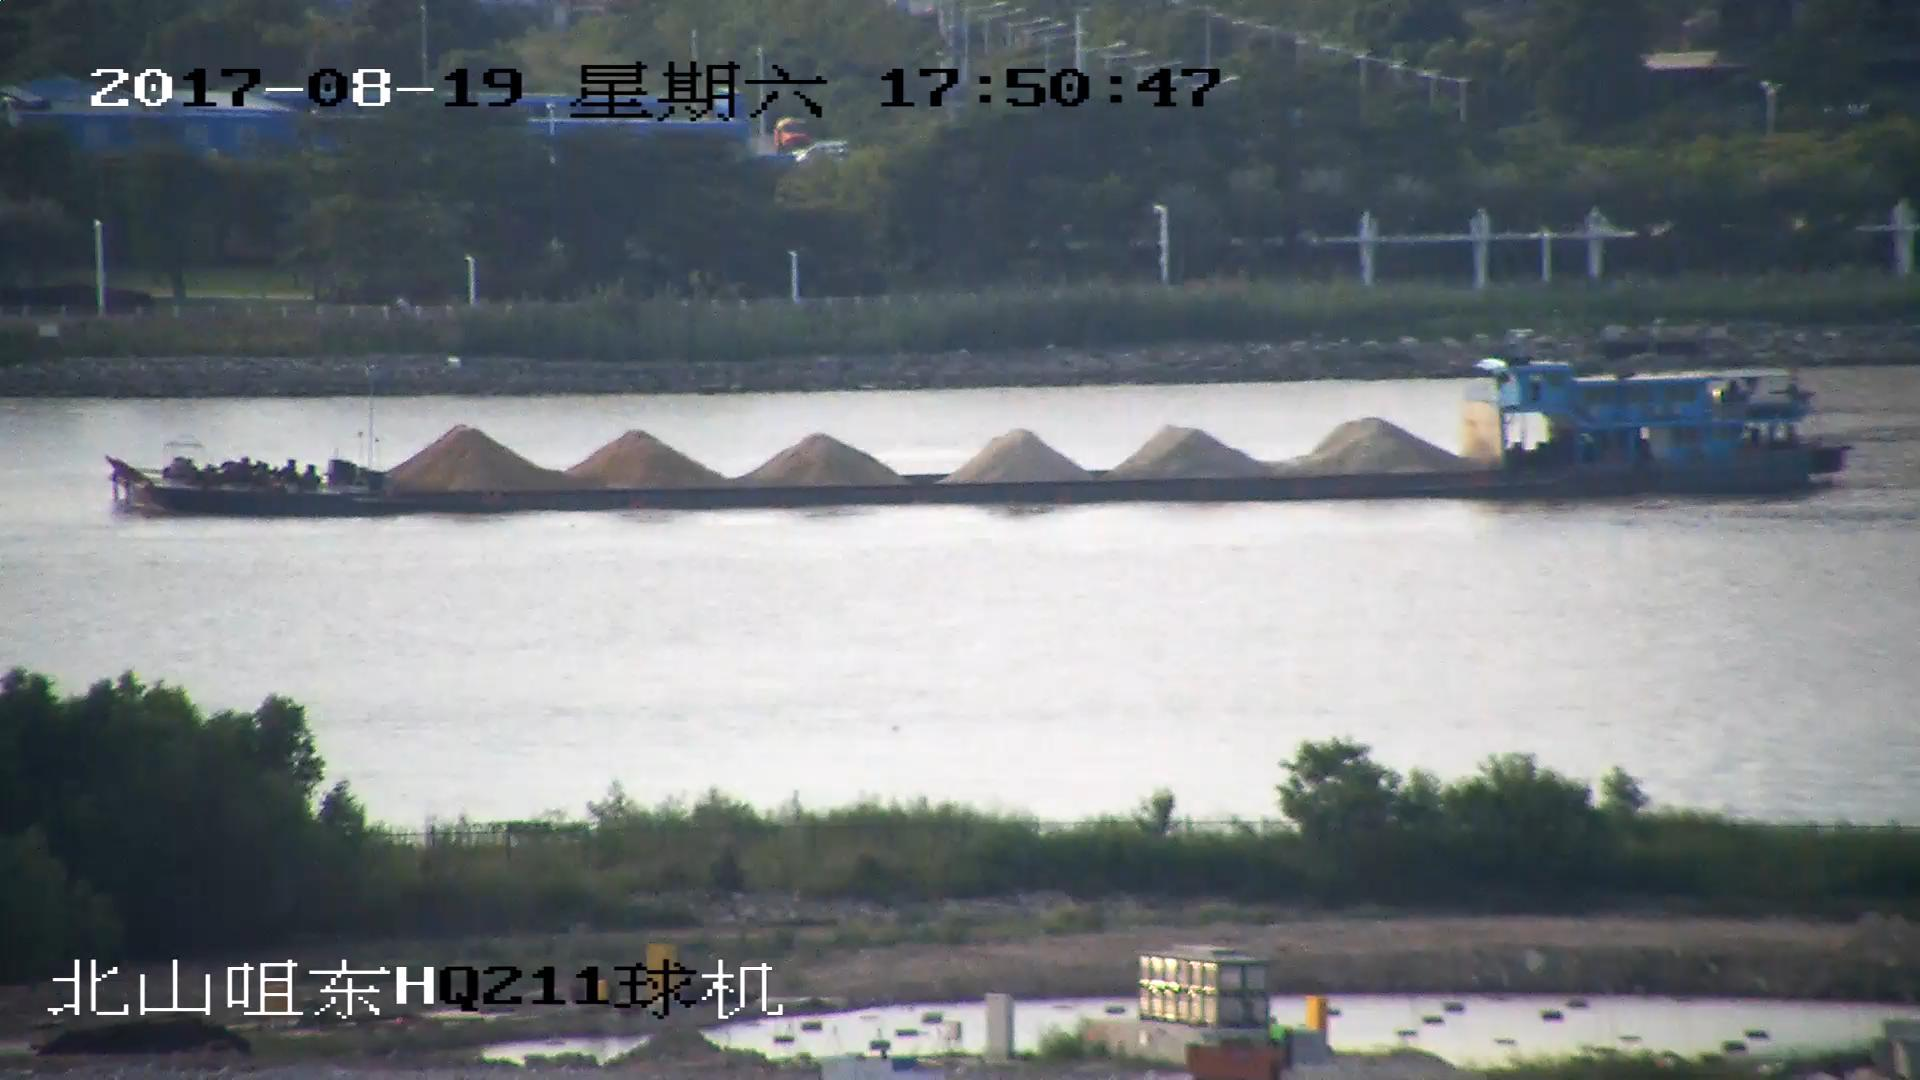Ship: (115, 357, 1847, 521)
